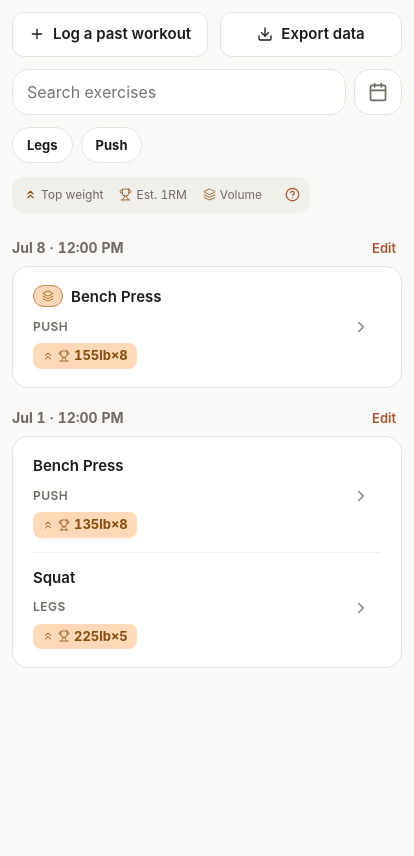
Test case: HistoryTab PR markers, search/tag filtering, and click-to-filter › tag filter narrows to matching exercises only
The image size is (414, 856).
Expected: the button "Push" is shown, left=81, top=127, right=142, bottom=163
What coordinates should you click on to do the following:
click the button "Legs"
I would click on:
 (42, 145)
Its box is left=12, top=127, right=73, bottom=163.
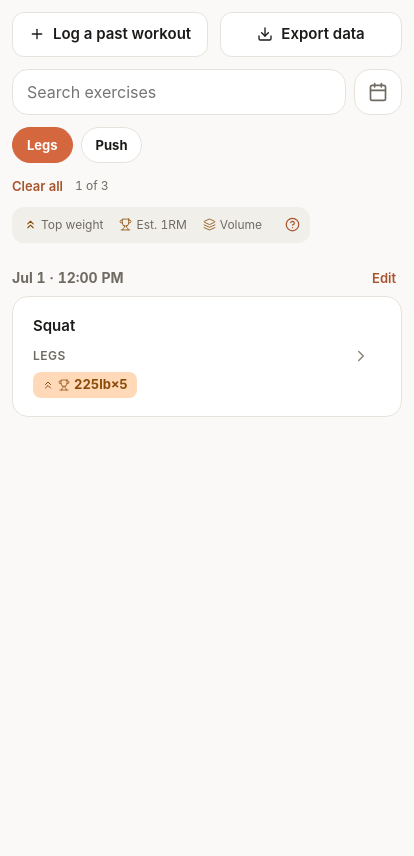
Expected: the text "Squat" is shown, left=33, top=315, right=75, bottom=337
Expected: the button "Bench Press" is gone
